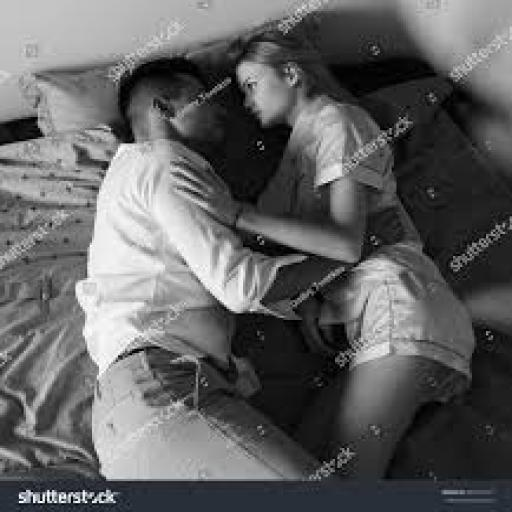hugging: (73, 24, 481, 484)
